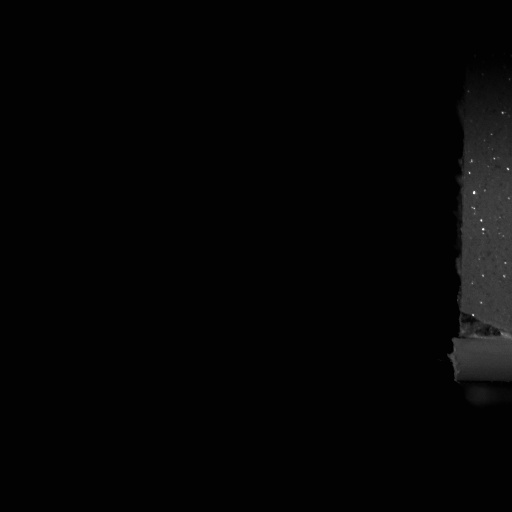bengque: (454, 312, 505, 342)
